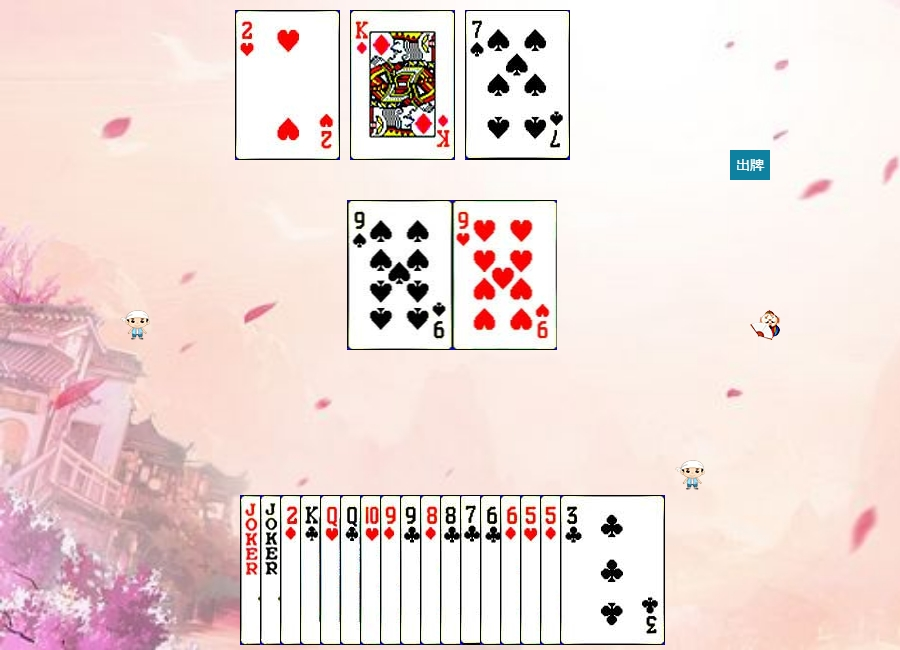10~3: (360, 495, 465, 645)
12~2: (340, 495, 445, 645)
12~3: (320, 495, 425, 645)
13~1: (350, 10, 455, 160)
13~2: (300, 495, 405, 645)
15~1: (280, 495, 385, 645)
15~3: (235, 10, 340, 160)
17~3: (260, 495, 365, 645)
18~4: (240, 495, 345, 645)
3~2: (560, 495, 665, 645)
5~1: (540, 495, 645, 645)
5~3: (520, 495, 625, 645)
6~1: (500, 495, 605, 645)
6~2: (480, 495, 585, 645)
7~2: (460, 495, 565, 645)
7~4: (465, 10, 570, 160)
8~1: (420, 495, 525, 645)
8~2: (440, 495, 545, 645)
9~1: (380, 495, 485, 645)
9~2: (400, 495, 505, 645)
9~3: (453, 200, 558, 350)
9~4: (348, 200, 453, 350)
